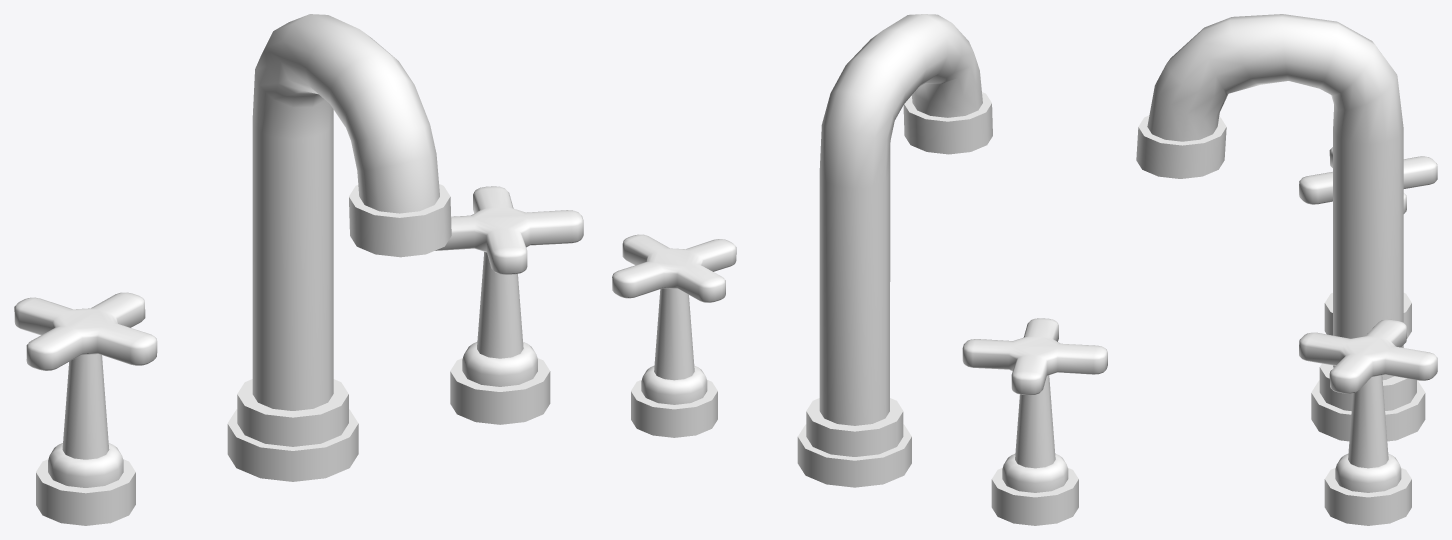
File: Faucet_2.fbx
3 views of the same model, side by side, from view 1: azimuth 30°, elevation 25°; view 2: azimuth 150°, elevation 25°; view 3: azimuth 270°, elevation 25° (orthographic). The views are drawn at different scales.
Visible parts, largest first — view 1: Faucet_2, Faucet_2 Attachment_1, Faucet_2 Attachment_2; view 2: Faucet_2, Faucet_2 Attachment_2, Faucet_2 Attachment_1; view 3: Faucet_2, Faucet_2 Attachment_2, Faucet_2 Attachment_1.
Boxes of the visible parts, <box> form: Faucet_2: <box>36,14,550,525</box>; Faucet_2 Attachment_1: <box>14,292,157,370</box>; Faucet_2 Attachment_2: <box>435,186,583,274</box>; Faucet_2: <box>631,14,1078,525</box>; Faucet_2 Attachment_2: <box>612,234,736,302</box>; Faucet_2 Attachment_1: <box>962,318,1107,395</box>; Faucet_2: <box>1136,14,1425,525</box>; Faucet_2 Attachment_2: <box>1299,319,1437,393</box>; Faucet_2 Attachment_1: <box>1299,147,1437,213</box>.
Bounding box in the file's own units: 0.3389 × 0.2706 × 0.1838.
